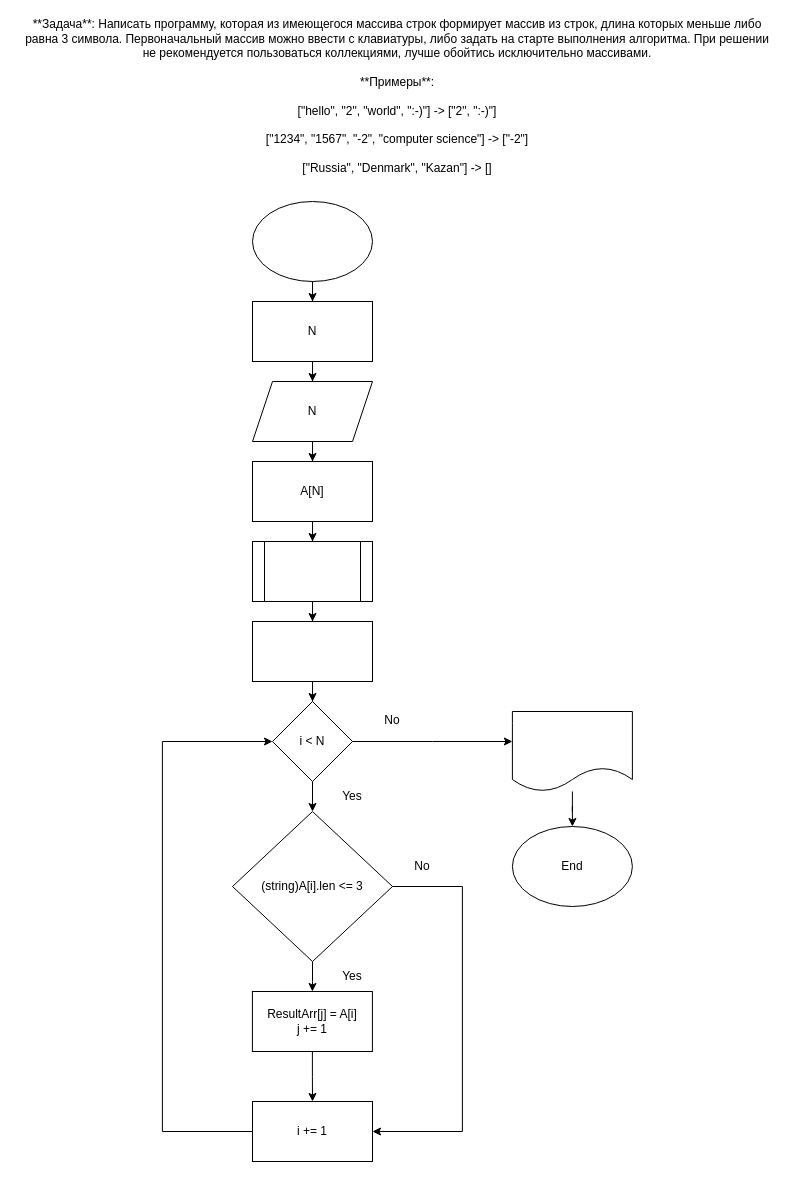
This 794x1179 diagram has some shape labels left out. The centre of each missing label's shape, as x and y in pixels:
"i = 0 j = 0 ResultArr[N]" goes at (x=312, y=651).
"input(A)" goes at (x=312, y=571).
"ResulArr" goes at (x=571, y=751).
"Start" goes at (x=312, y=241).
